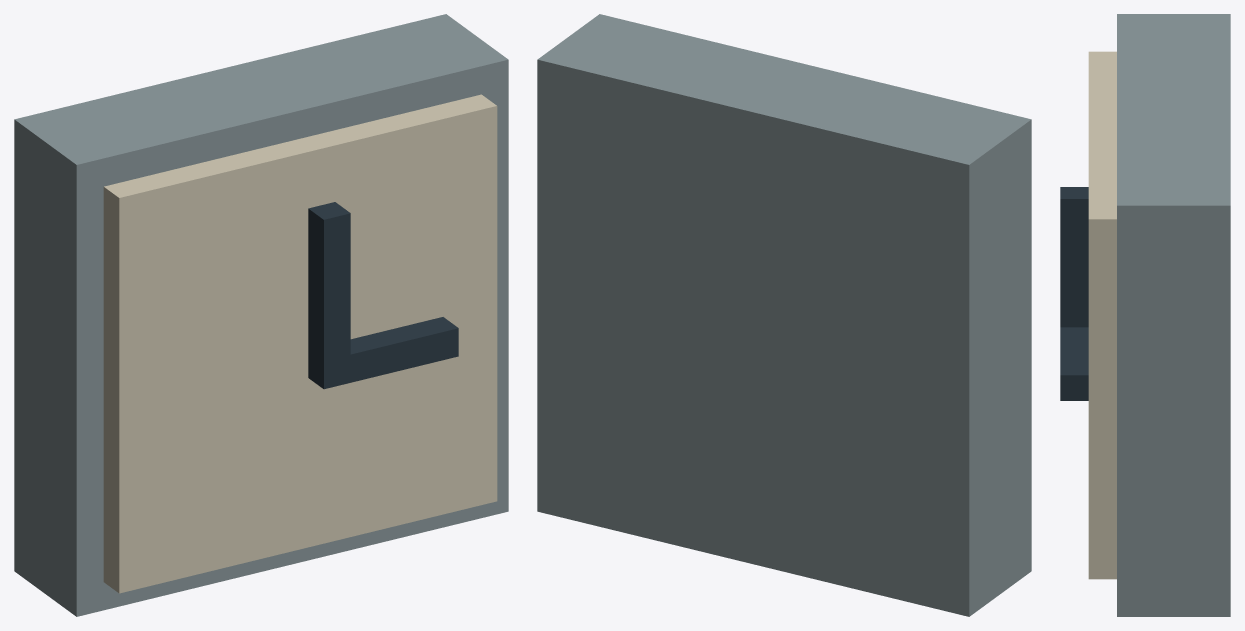
The model's file is news-09.glb.
3 views of the same model, side by side, from view 1: azimuth 30°, elevation 25°; view 2: azimuth 150°, elevation 25°; view 3: azimuth 270°, elevation 25° (orthographic). The views are drawn at different scales.
Parts seen in each view (by area): view 1: Newsroom clock; view 2: Newsroom clock; view 3: Newsroom clock.
Part boxes in pixels (<box>): Newsroom clock: <box>14,14,508,616</box>; Newsroom clock: <box>537,14,1031,616</box>; Newsroom clock: <box>1060,14,1230,616</box>.
Bounding box in the file's own units: 1.28 × 1.28 × 0.48.
